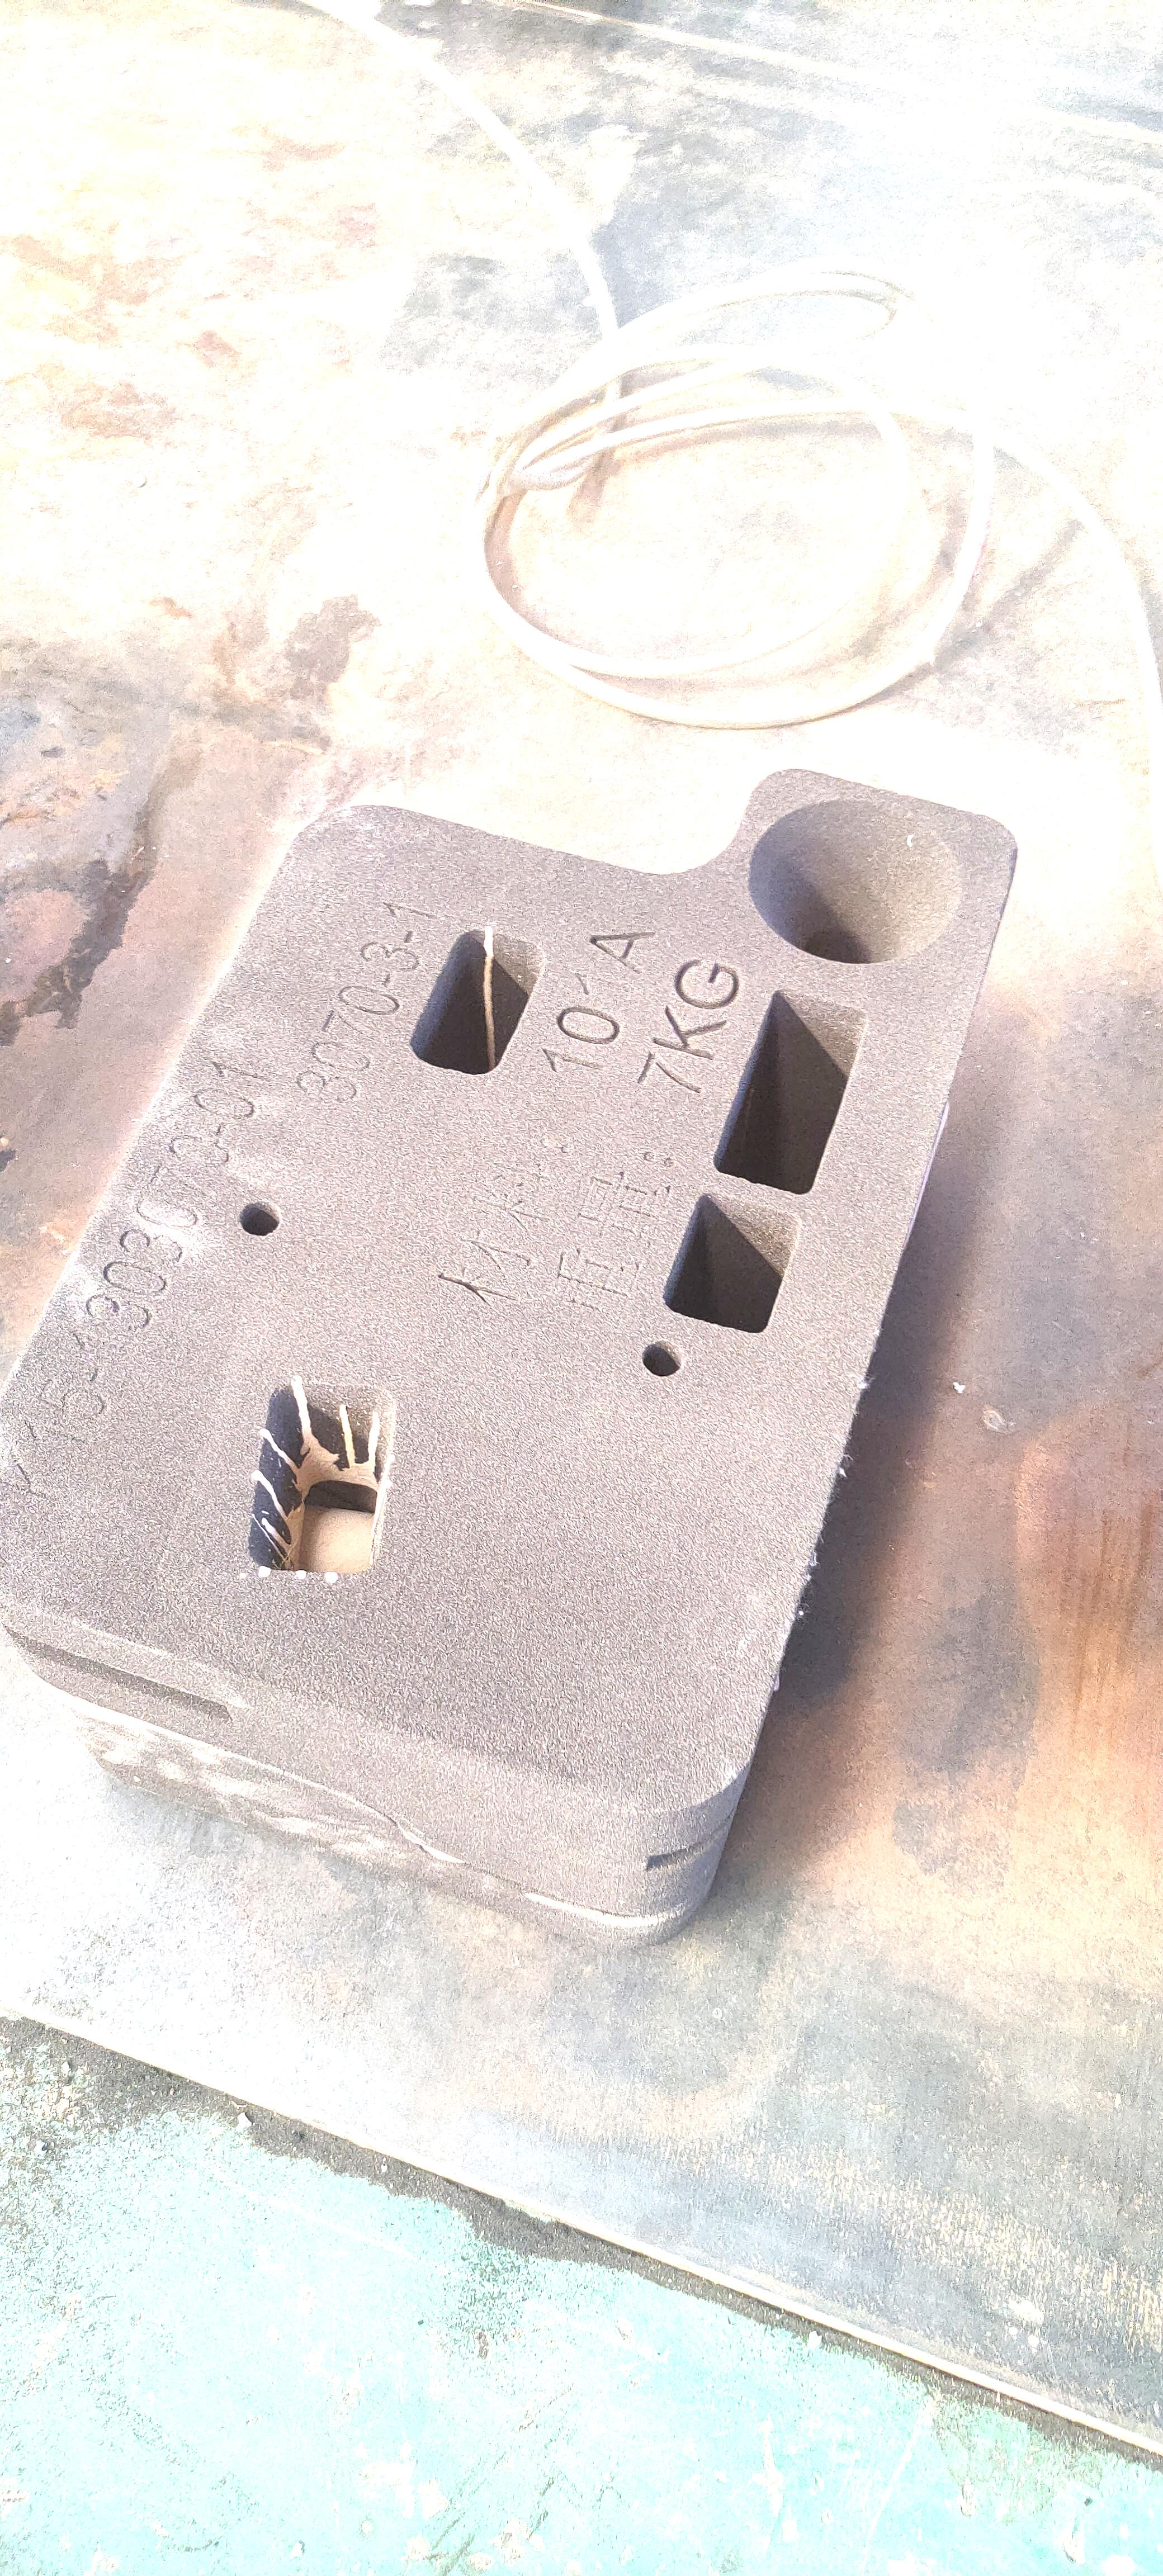pouring hole: (744, 800, 969, 968)
